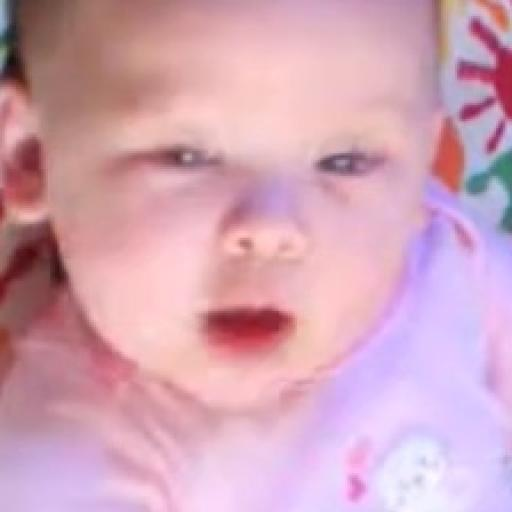Autism: (17, 2, 473, 412)
